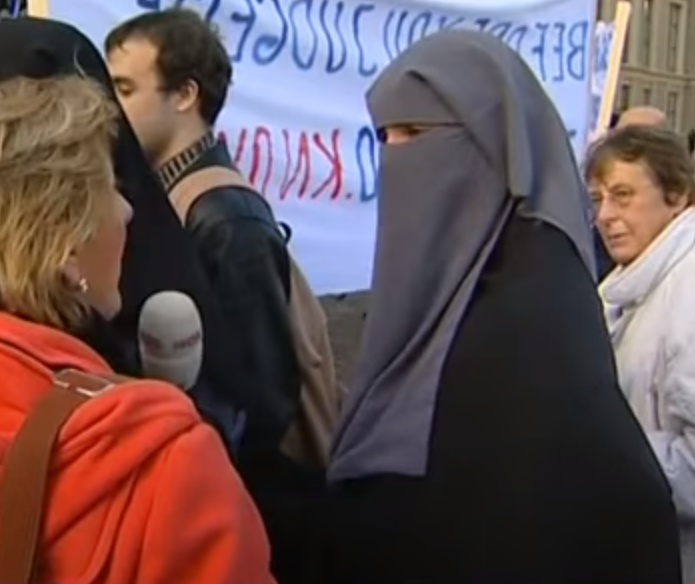mouth: (606, 231, 626, 242)
nose: (595, 212, 617, 224)
